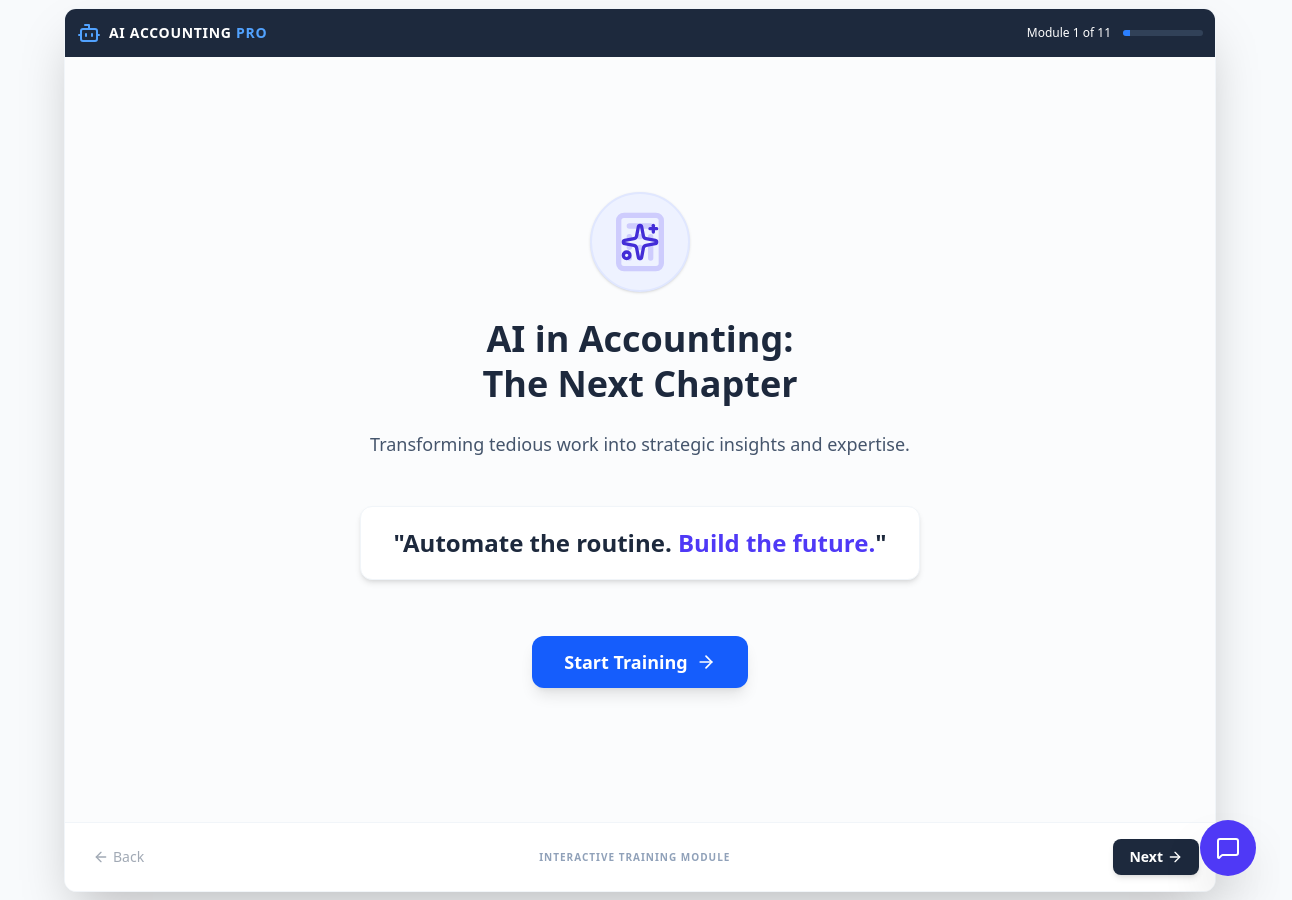
Scenario: Chatbot Component › opens chatbot when toggle button is clicked
This screenshot has width=1292, height=900.
Click the button named "Toggle Chatbot". click: coordinates (1228, 848)
box: [1200,820,1256,876]
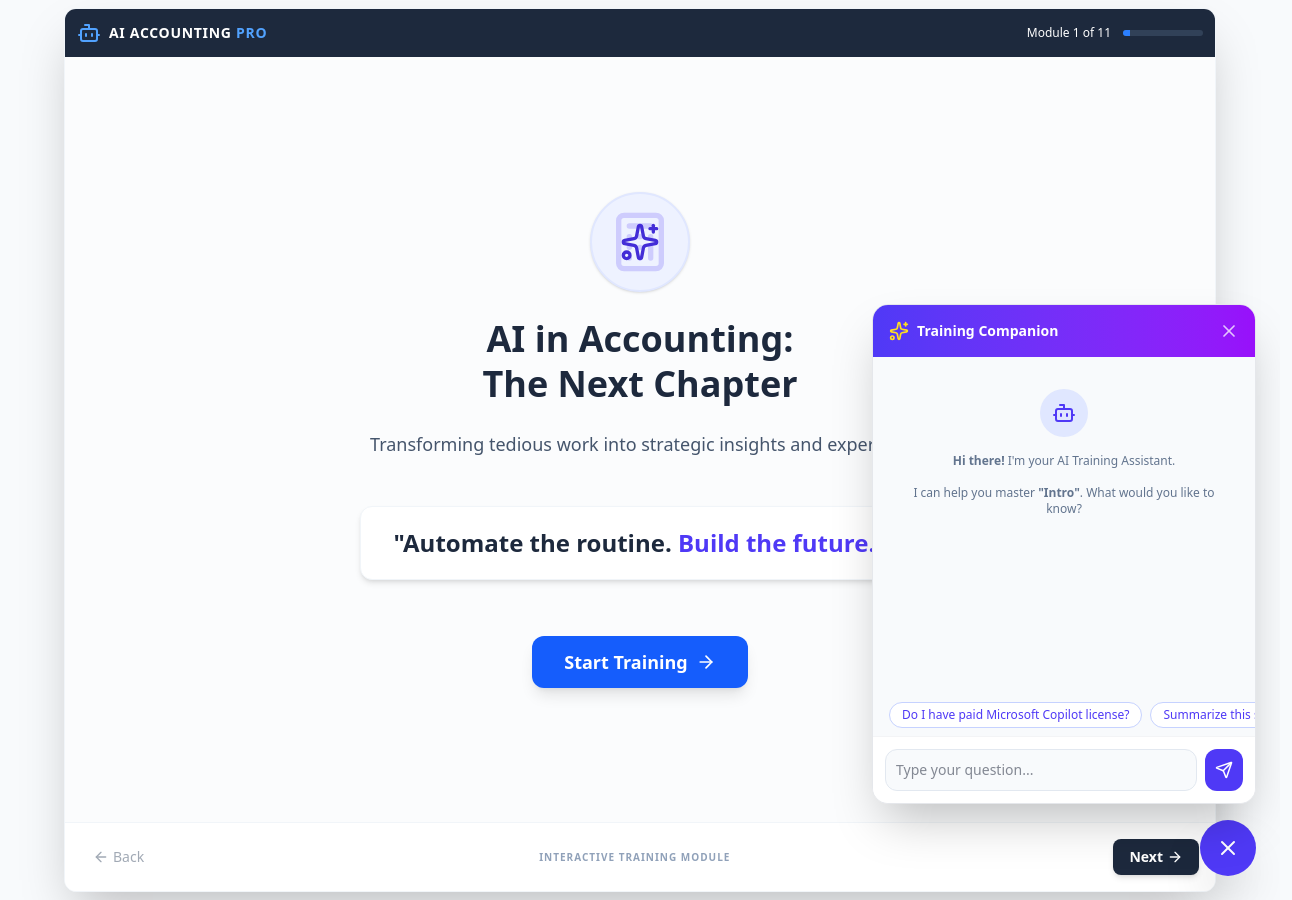
expect the text "Training Companion" is shown: met, box [917,321,1058,341]
